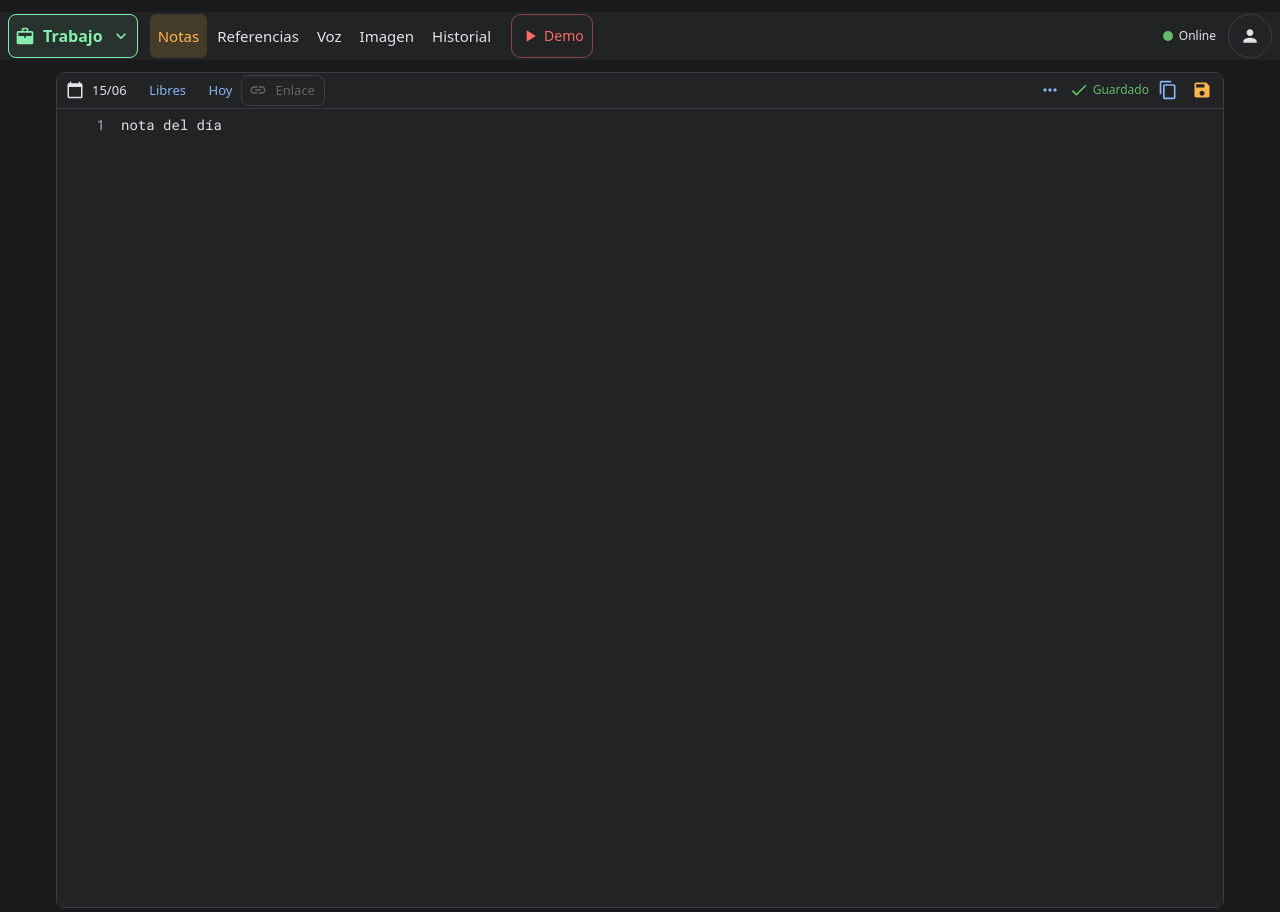
Test: Notas · una sola barra de herramientas (UI-05) › un conflicto al guardar la versión se explica debajo de la barra, con el mismo texto
This screenshot has width=1280, height=912.
Expected: the field named "Editor de nota diaria" reads "nota del día", [121,115,222,134]
Click the button named "Guardar versión": (1202, 90) [1187,75,1217,105]
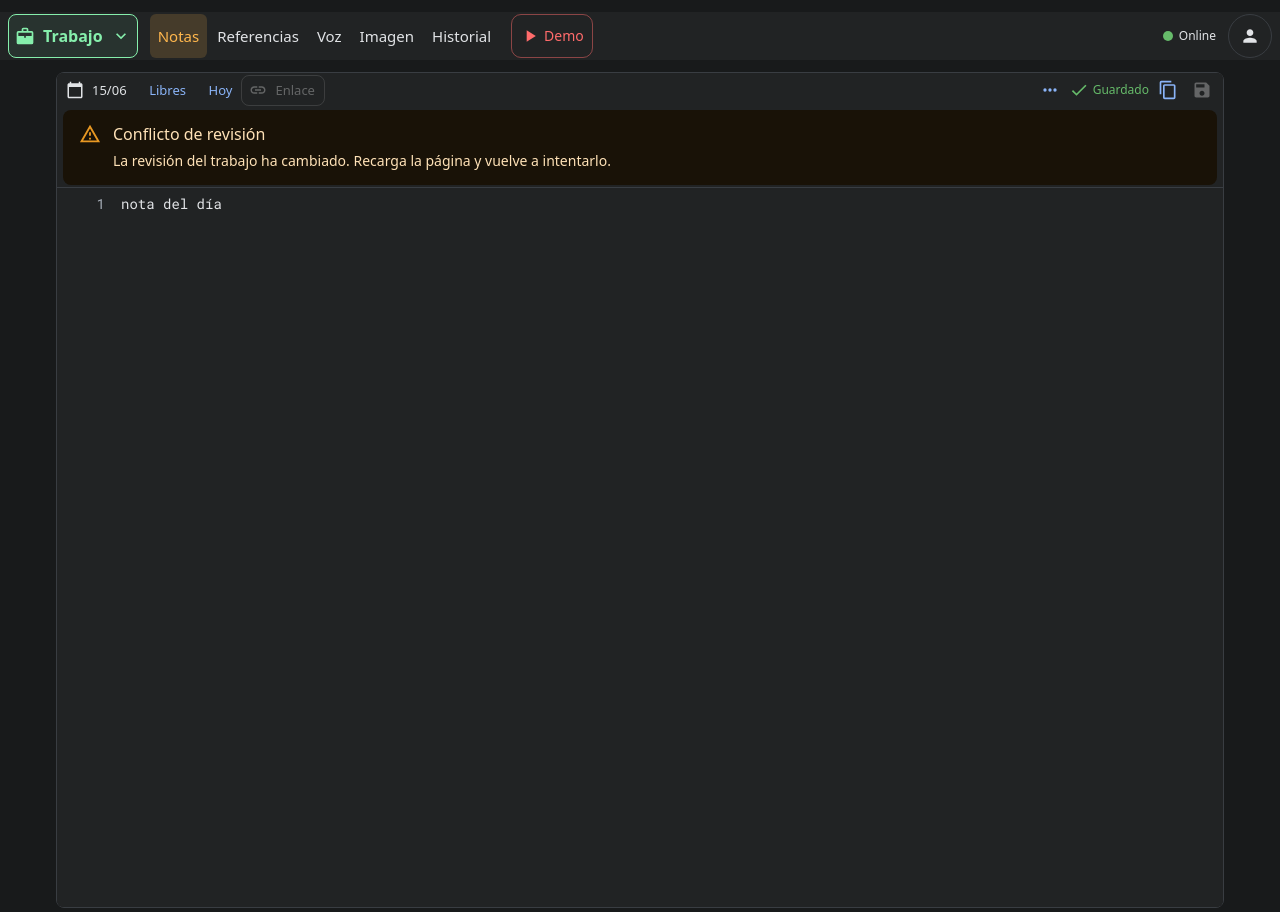
Expected: the message that starts with "Conflicto de revisión" is shown, [113,123,265,145]
Expected: the message that starts with "Conflicto de revisión" shows "La revisión del trabajo ha cambiado. Recarga la página y vuelve a intentarlo.", [113,151,611,170]
